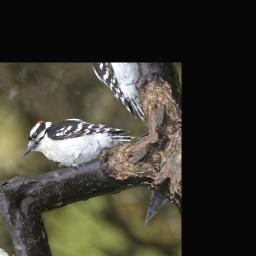Woodpecker: (18, 86, 139, 204)
